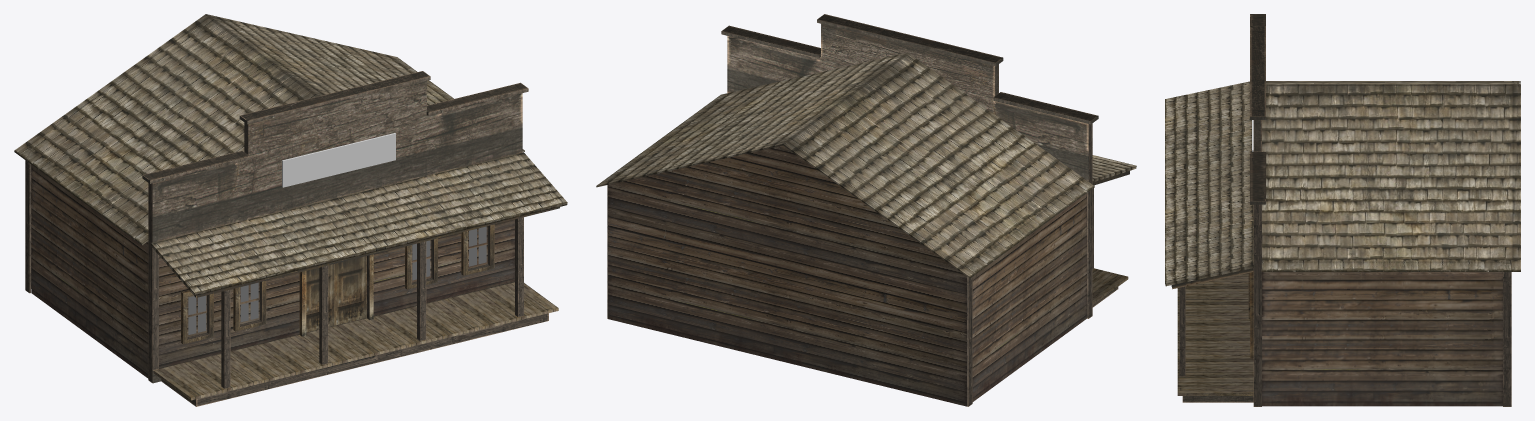
Rendered from Building3_LOD1.FBX.
3 renders of one model, left to right at view 1: azimuth 30°, elevation 25°; view 2: azimuth 150°, elevation 25°; view 3: azimuth 270°, elevation 25°, orthographic. The views are drawn at different scales.
Visible parts, largest first — view 1: roof, building, sign, glass; view 2: roof, building; view 3: roof, building.
Boxes of the visible parts, x1=… form: roof: x1=14, y1=14, x2=567, y2=378; building: x1=25, y1=71, x2=559, y2=406; sign: x1=282, y1=133, x2=395, y2=187; glass: x1=188, y1=226, x2=486, y2=334; roof: x1=596, y1=52, x2=1136, y2=406; building: x1=607, y1=14, x2=1129, y2=406; roof: x1=1165, y1=81, x2=1520, y2=406; building: x1=1171, y1=14, x2=1511, y2=406.
Size of the model in its own units: 447 by 269 by 355.
